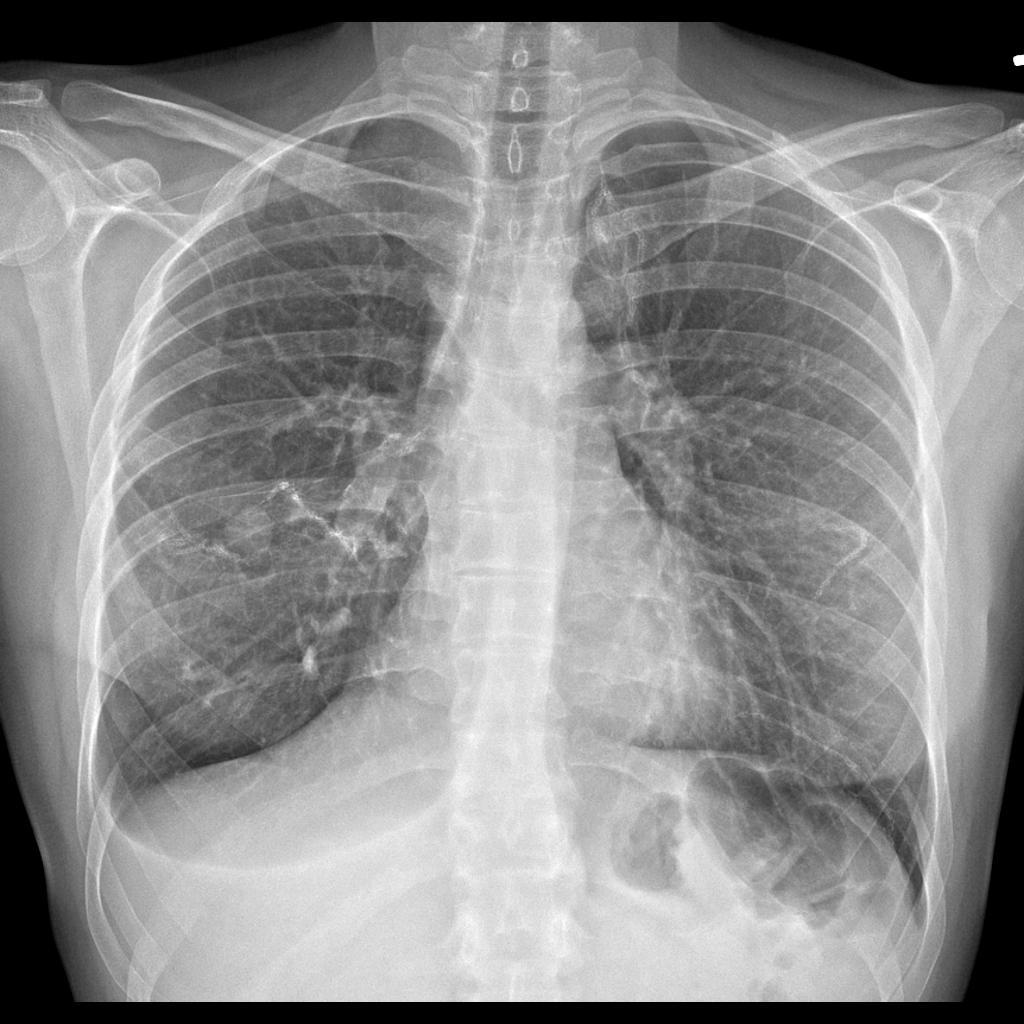Nodule: (221, 498, 281, 565)
